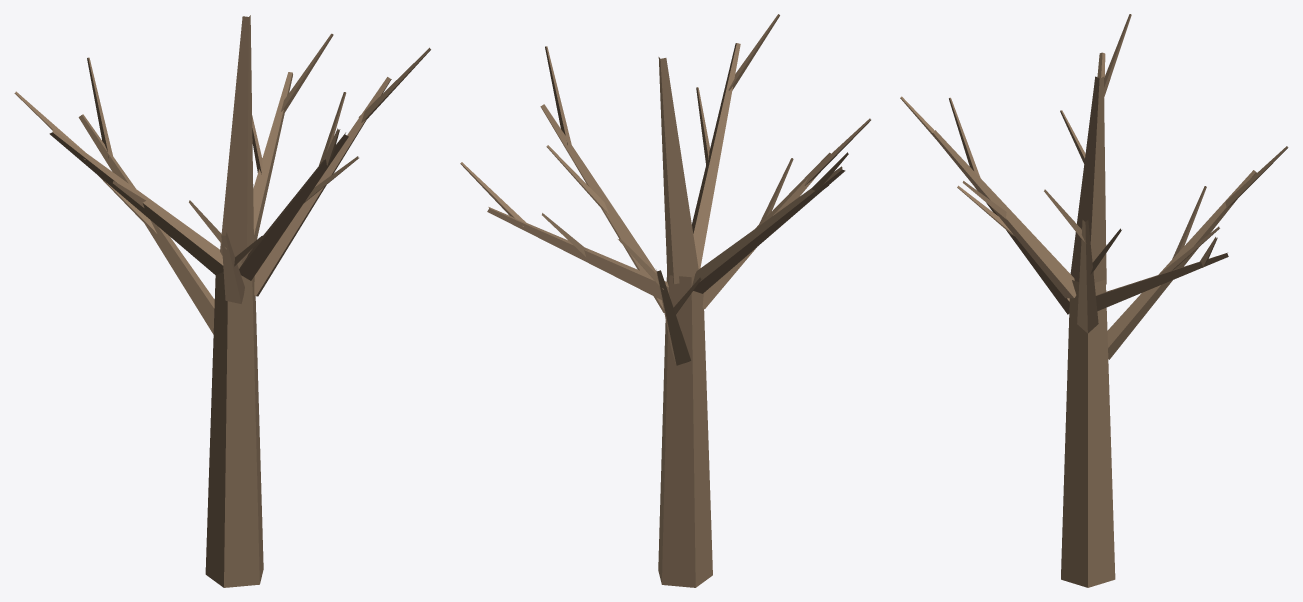
File: tree_bare.glb
3 views of the same model, side by side, from view 1: azimuth 30°, elevation 25°; view 2: azimuth 150°, elevation 25°; view 3: azimuth 270°, elevation 25° (orthographic). The views are drawn at different scales.
Parts seen in each view (by area): view 1: tree_bare; view 2: tree_bare; view 3: tree_bare.
Boxes of the visible parts, <box> form: tree_bare: <box>14,15,430,587</box>; tree_bare: <box>460,14,870,587</box>; tree_bare: <box>900,14,1288,587</box>.
Bounding box in the file's own units: 2.74 × 3.9 × 2.71.
